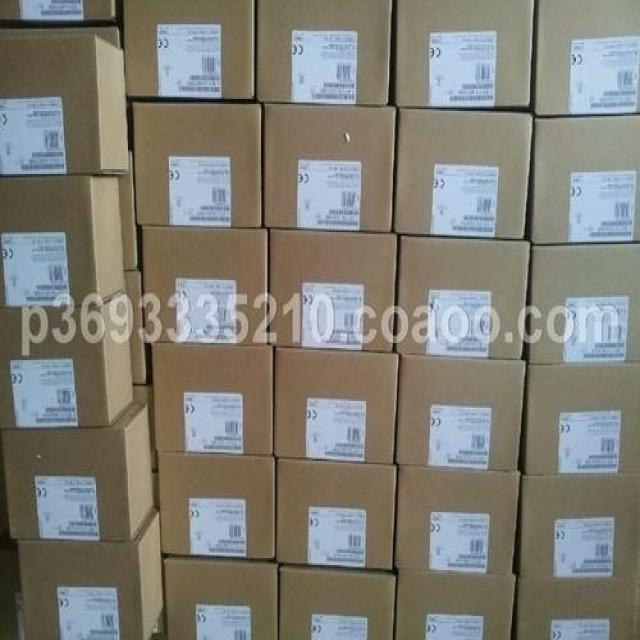box: (2, 401, 154, 540), (18, 509, 163, 638), (0, 35, 128, 175), (394, 110, 532, 238), (264, 104, 396, 231), (0, 174, 125, 306), (396, 236, 530, 359), (134, 102, 261, 227), (269, 229, 397, 351), (397, 353, 525, 470), (143, 226, 267, 345), (396, 1, 533, 106), (274, 348, 398, 463), (257, 0, 391, 105), (394, 465, 521, 575), (532, 115, 639, 244), (151, 343, 272, 454), (529, 244, 639, 364), (277, 459, 396, 569), (124, 0, 253, 98), (157, 451, 275, 558), (525, 364, 639, 474), (521, 474, 639, 577), (535, 0, 639, 115), (165, 557, 277, 638), (279, 564, 396, 638), (396, 568, 516, 638), (517, 577, 639, 638), (125, 271, 146, 384), (119, 150, 138, 270), (1, 28, 120, 47), (0, 0, 114, 18), (133, 385, 157, 470)
